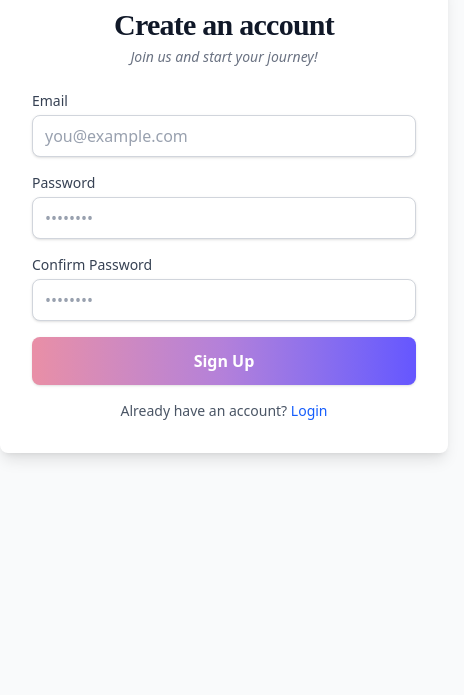
SignupForm › shows error message on API failure
Type "bad@user.com" into the field labelled "Email" at (224, 136), box x1=32 y1=115 x2=416 y2=157
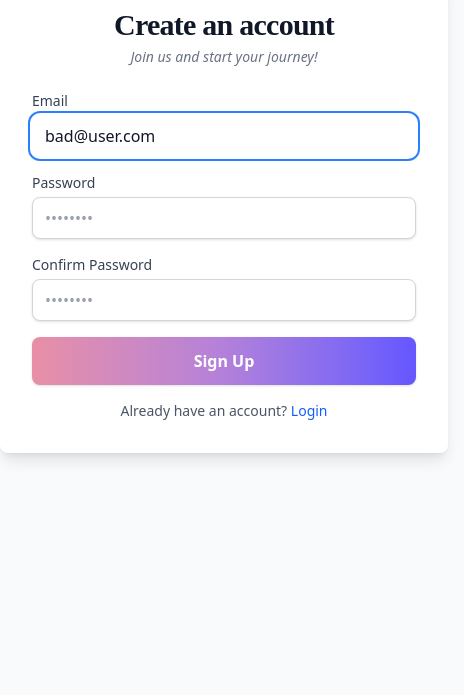
Type "StrongPass1!" into the password field labelled "Password" at (224, 218), box x1=32 y1=197 x2=416 y2=239
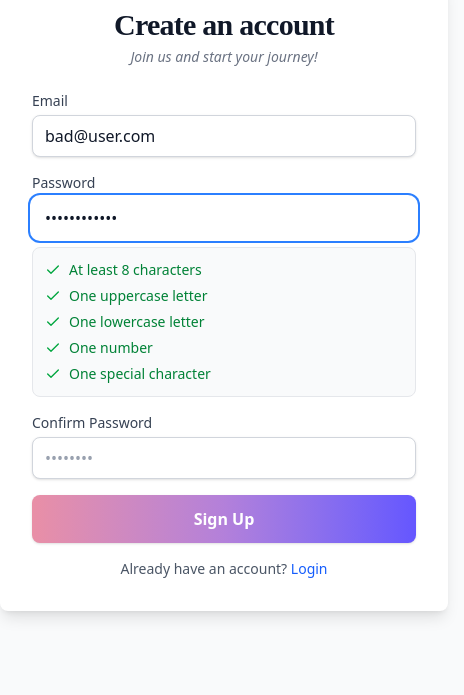
Type "StrongPass1!" into the password field labelled "Confirm Password" at (224, 458), box x1=32 y1=437 x2=416 y2=479
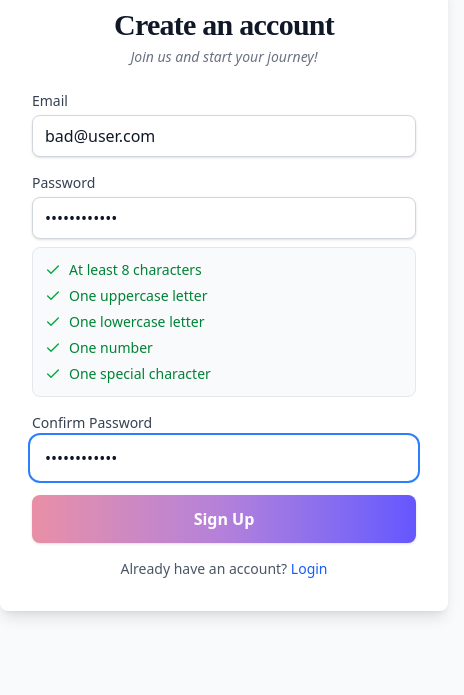
Click the button "Sign Up" at (224, 519), box x1=32 y1=495 x2=416 y2=543
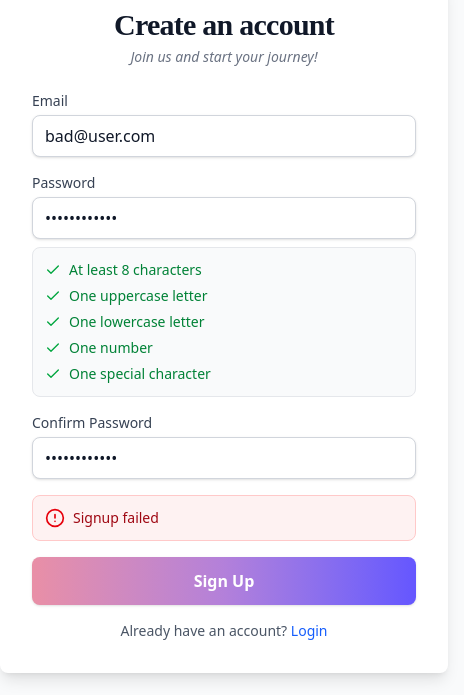
Result: the text "Signup failed" is shown at x1=73 y1=508 x2=159 y2=528
